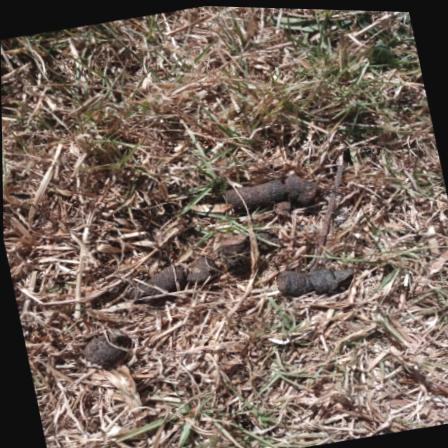dog-poop: (126, 223, 285, 313), (216, 155, 333, 223), (266, 252, 363, 310), (76, 313, 139, 380)
